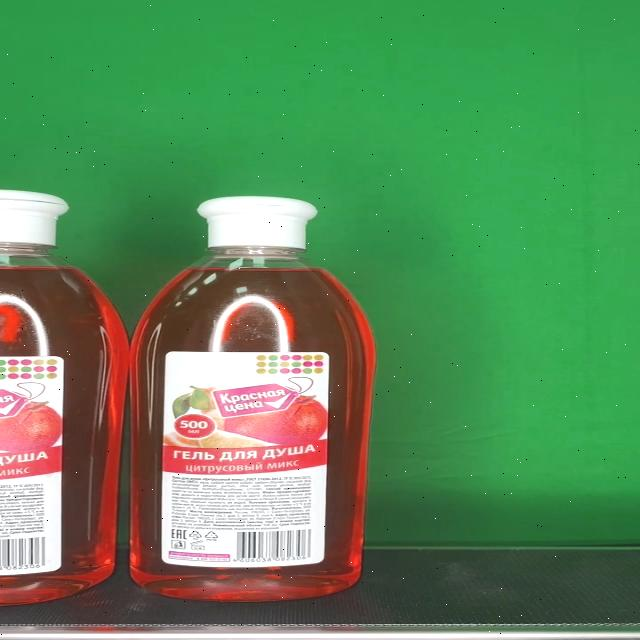Bottle: (129, 194, 377, 602)
Cap: (198, 195, 319, 248)
